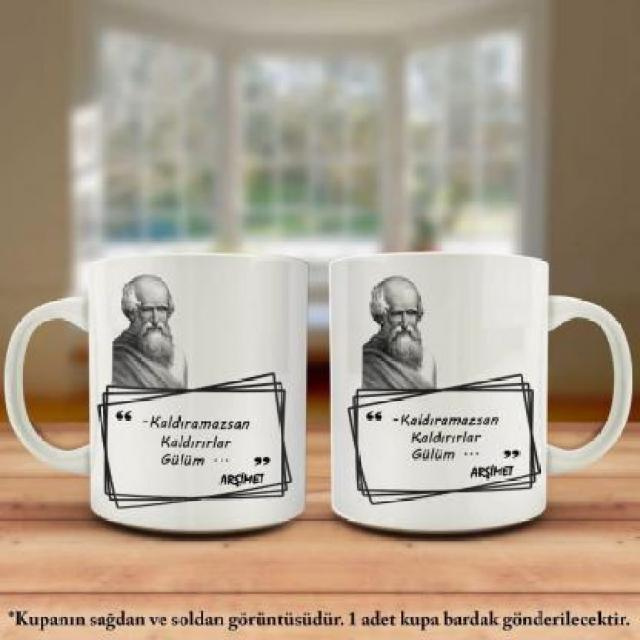taza: (4, 202, 312, 554), (318, 222, 634, 548)
